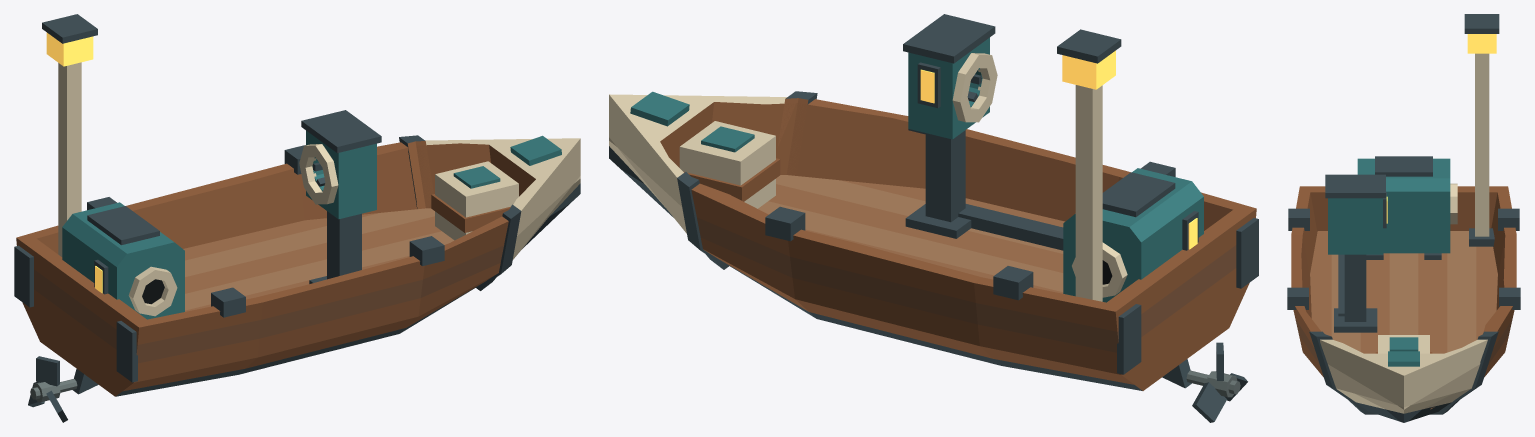
The model's file is salvage_skiff.glb.
The picture shows the model from 3 angles, left to right: view 1: azimuth 30°, elevation 25°; view 2: azimuth 150°, elevation 25°; view 3: azimuth 270°, elevation 25°; orthographic projection. The views are drawn at different scales.
Visible parts, largest first — view 1: Skiff Timber, Skiff Iron, Skiff Cream, Skiff Teal, Skiff Strake, Skiff Planks, Skiff Planks dark, Skiff Amber, Propeller Iron; view 2: Skiff Timber, Skiff Iron, Skiff Cream, Skiff Teal, Skiff Strake, Skiff Planks, Skiff Planks dark, Skiff Amber, Propeller Iron; view 3: Skiff Cream, Skiff Iron, Skiff Teal, Skiff Planks dark, Skiff Timber, Skiff Planks, Skiff Amber, Skiff Strake.
Part boxes in pixels (x1,y1,x2,y2): Skiff Timber: [16, 142, 535, 396]; Skiff Iron: [14, 14, 580, 396]; Skiff Cream: [58, 62, 580, 316]; Skiff Teal: [62, 130, 561, 319]; Skiff Strake: [34, 245, 503, 363]; Skiff Planks: [185, 208, 454, 310]; Skiff Planks dark: [183, 213, 441, 311]; Skiff Amber: [46, 32, 102, 293]; Propeller Iron: [28, 356, 67, 422]; Skiff Timber: [660, 99, 1256, 390]; Skiff Iron: [609, 14, 1258, 390]; Skiff Cream: [609, 53, 1127, 301]; Skiff Teal: [630, 37, 1203, 302]; Skiff Strake: [697, 217, 1236, 352]; Skiff Planks: [758, 175, 1063, 291]; Skiff Planks dark: [768, 180, 1064, 293]; Skiff Amber: [920, 50, 1197, 249]; Propeller Iron: [1192, 342, 1247, 422]; Skiff Cream: [1320, 53, 1489, 413]; Skiff Iron: [1287, 14, 1520, 422]; Skiff Teal: [1328, 158, 1450, 366]; Skiff Planks dark: [1310, 231, 1497, 409]; Skiff Timber: [1291, 186, 1516, 377]; Skiff Planks: [1331, 231, 1476, 352]; Skiff Amber: [1386, 34, 1496, 223]; Skiff Strake: [1295, 319, 1512, 364].
Bounding box in the file's own units: 1.85 × 1.09 × 0.8059.
